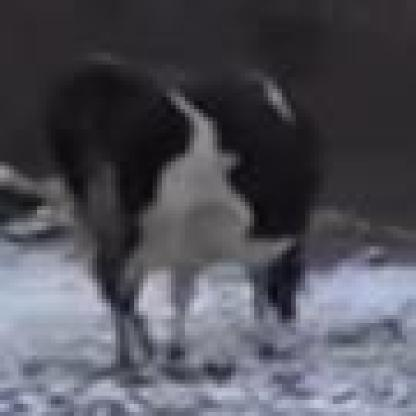cow: (48, 52, 326, 372)
